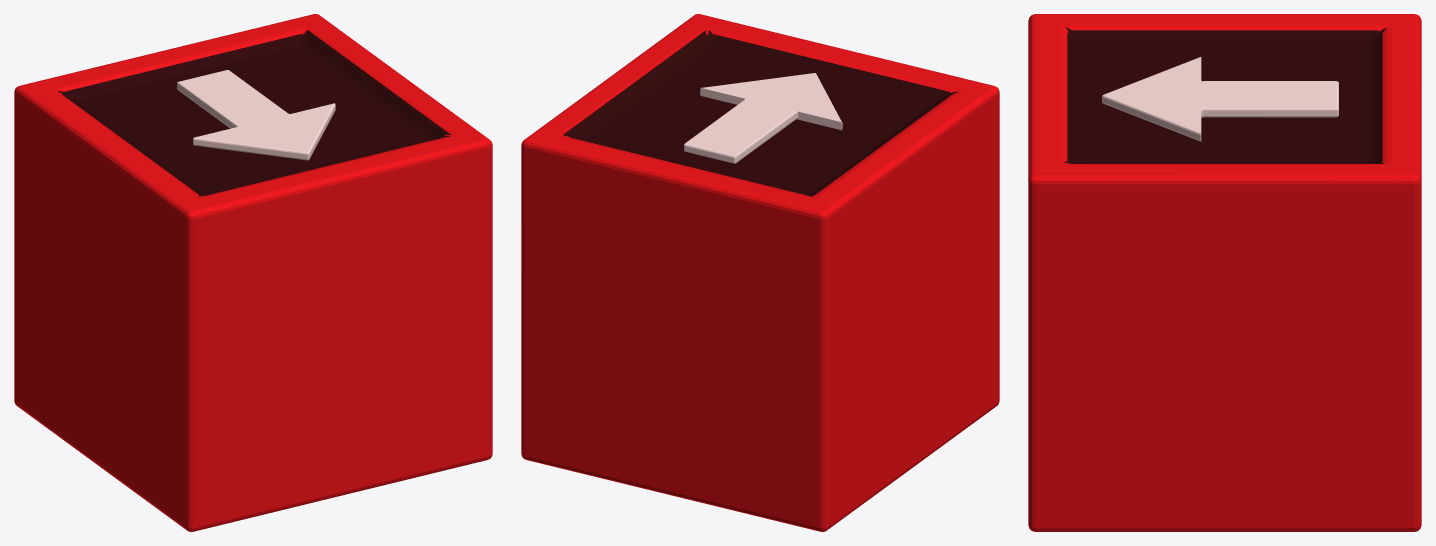
File: red_up.obj
The picture shows the model from 3 angles, left to right: view 1: azimuth 30°, elevation 25°; view 2: azimuth 150°, elevation 25°; view 3: azimuth 270°, elevation 25°; orthographic projection. The views are drawn at different scales.
Visible parts, largest first — view 1: red_up_body, red_up_up; view 2: red_up_body, red_up_up; view 3: red_up_body, red_up_up.
Part boxes in pixels (x1,y1,x2,y2): red_up_body: (14, 14, 492, 531); red_up_up: (177, 70, 335, 160); red_up_body: (521, 14, 999, 531); red_up_up: (684, 73, 842, 163); red_up_body: (1028, 14, 1421, 531); red_up_up: (1102, 57, 1338, 141).
Bounding box in the file's own units: 1 × 1 × 1.
